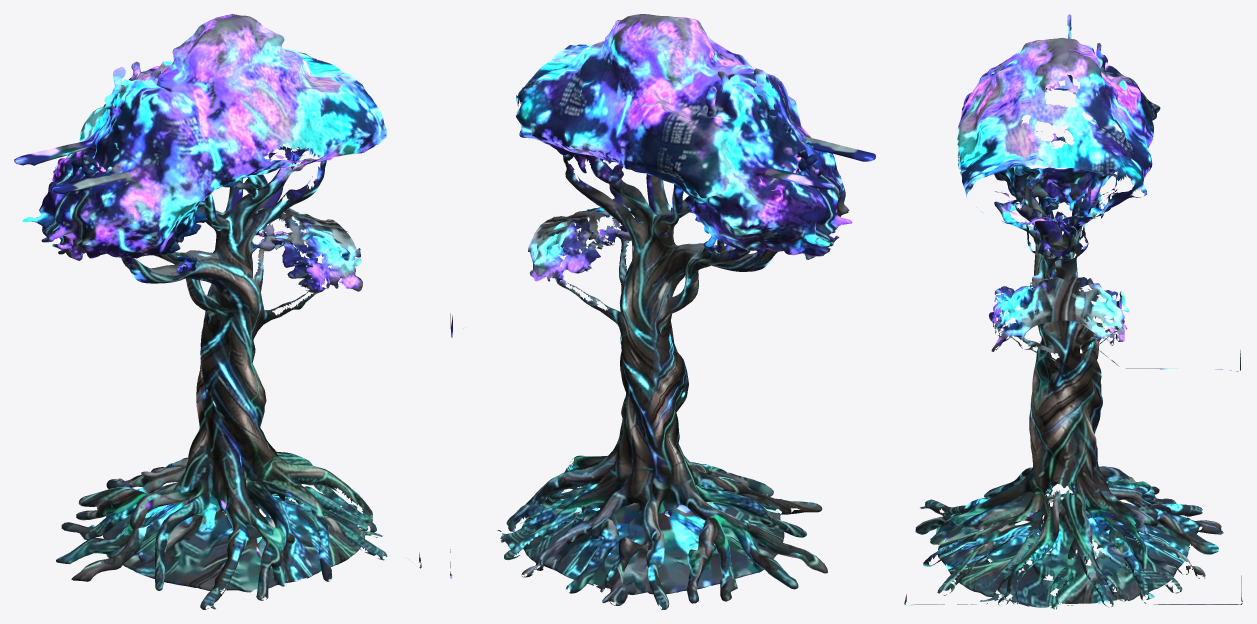
Rendered from bioluminescent_tree.glb.
3 renders of one model, left to right at view 1: azimuth 30°, elevation 25°; view 2: azimuth 150°, elevation 25°; view 3: azimuth 270°, elevation 25°, orthographic. The views are drawn at different scales.
Visible parts, largest first — view 1: geometry_0; view 2: geometry_0; view 3: geometry_0.
Boxes of the visible parts, bbox=[...] form: geometry_0: bbox=[14, 14, 421, 609]; geometry_0: bbox=[450, 14, 875, 609]; geometry_0: bbox=[904, 14, 1242, 609].
Size of the model in its own units: 7.46 by 11.5 by 6.93.
Materials: 1 (1 with a texture image).
